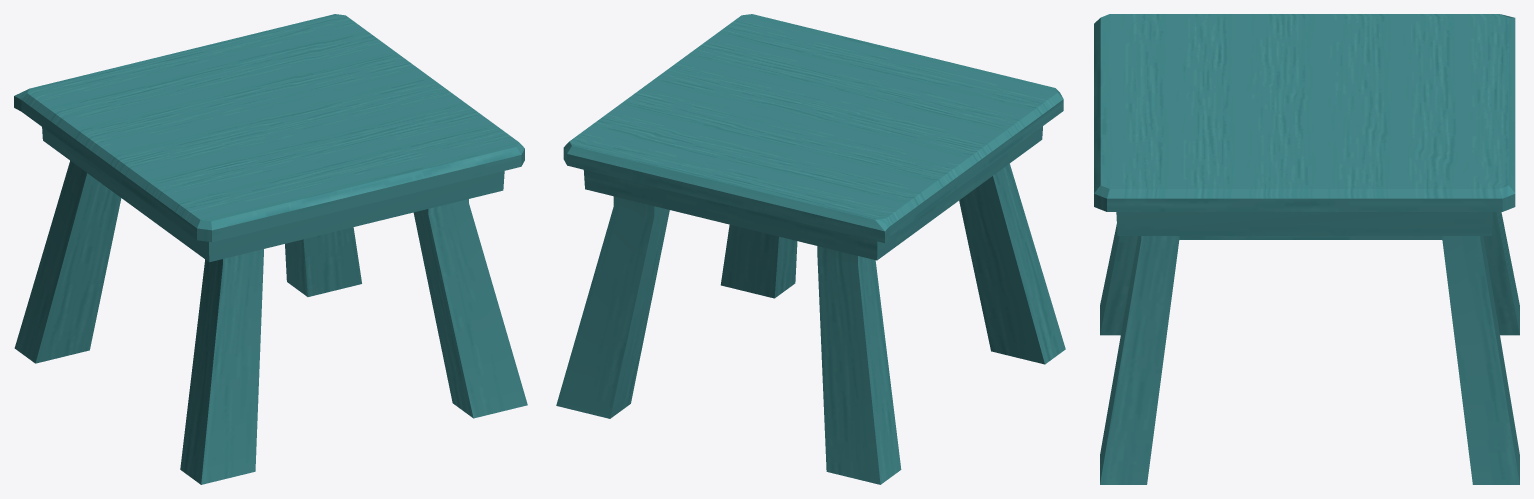
The model's file is Stool_E.FBX.
3 renders of one model, left to right at view 1: azimuth 30°, elevation 25°; view 2: azimuth 150°, elevation 25°; view 3: azimuth 270°, elevation 25°, orthographic. The views are drawn at different scales.
Visible parts, largest first — view 1: Stool; view 2: Stool; view 3: Stool.
Boxes of the visible parts, x1,y1,x2,y2 form: Stool: (14, 14, 527, 484); Stool: (556, 14, 1065, 484); Stool: (1094, 14, 1519, 484).
Bounding box in the file's own units: 121 × 91.5 × 120.
